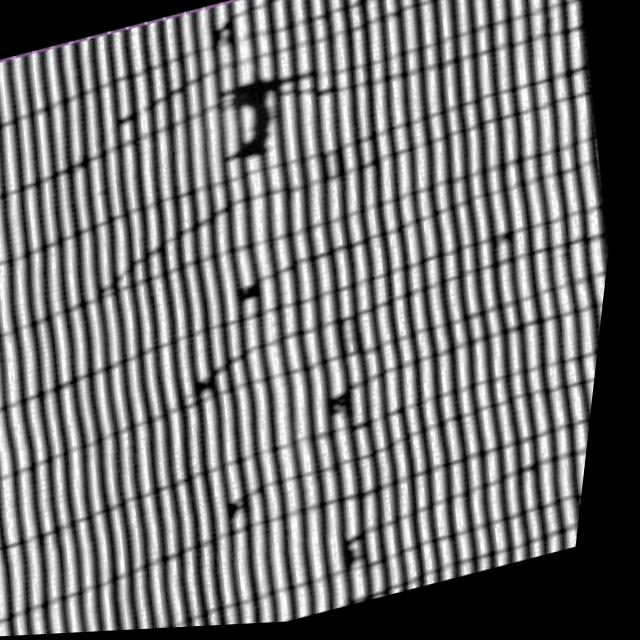Stitch: (196, 62, 316, 189)
